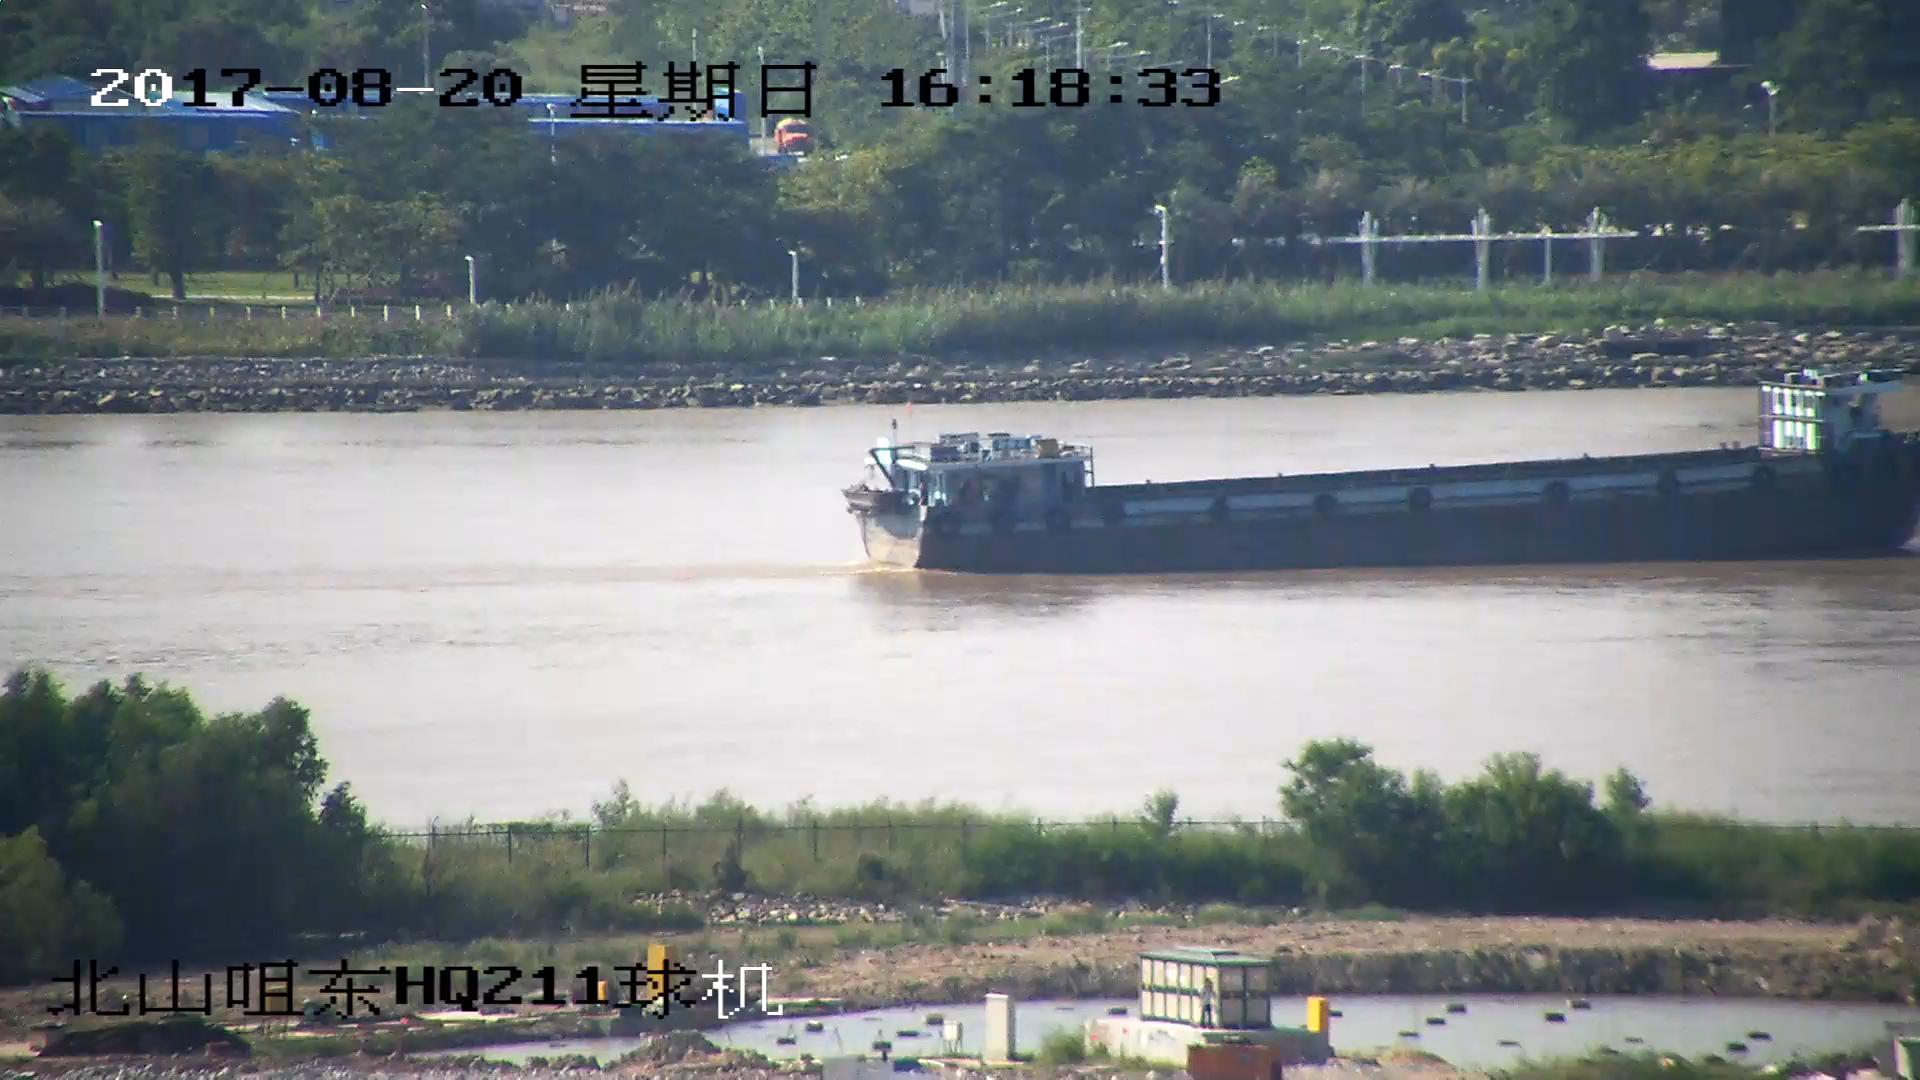Ship: (856, 373, 1920, 580)
